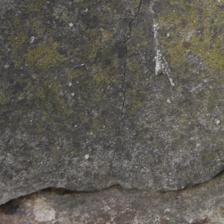Crack: (2, 82, 221, 132)
